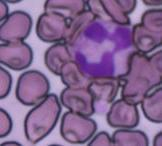N: (70, 18, 134, 78)
